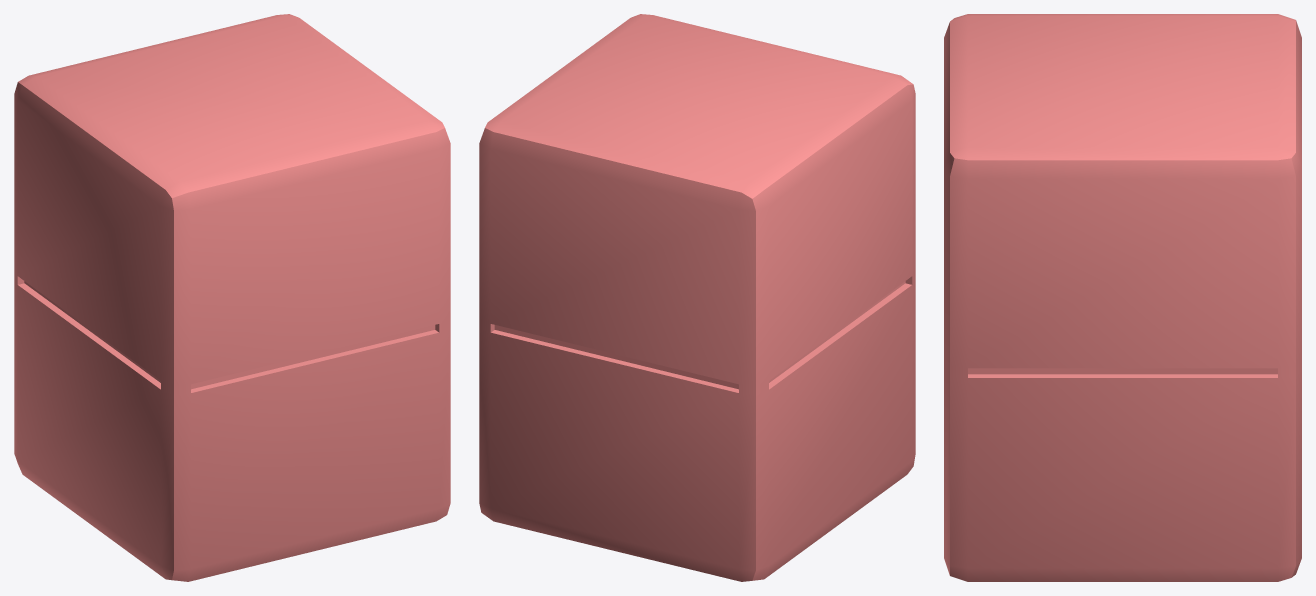
File: Crate 2.FBX
The picture shows the model from 3 angles, left to right: view 1: azimuth 30°, elevation 25°; view 2: azimuth 150°, elevation 25°; view 3: azimuth 270°, elevation 25°; orthographic projection. The views are drawn at different scales.
Visible parts, largest first — view 1: Box001; view 2: Box001; view 3: Box001.
Boxes of the visible parts, x1,y1,x2,y2 form: Box001: [14, 14, 450, 581]; Box001: [479, 14, 915, 581]; Box001: [944, 14, 1301, 581].
Bounding box in the file's own units: 30 × 40 × 30.
